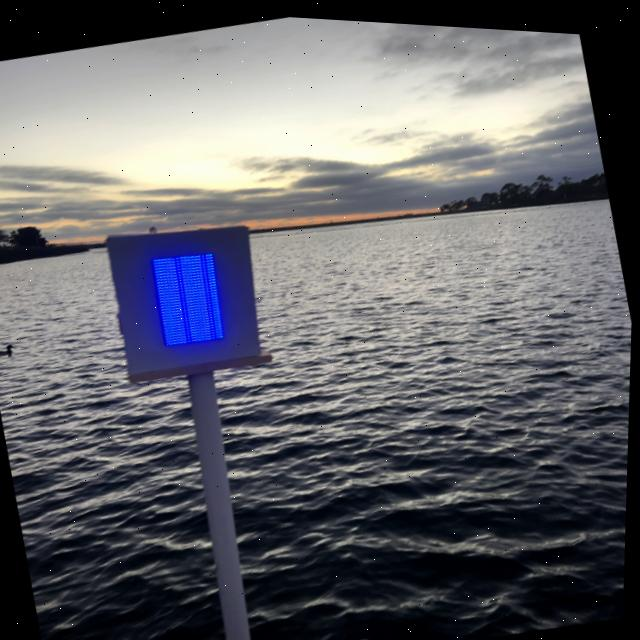led: (122, 225, 254, 373)
